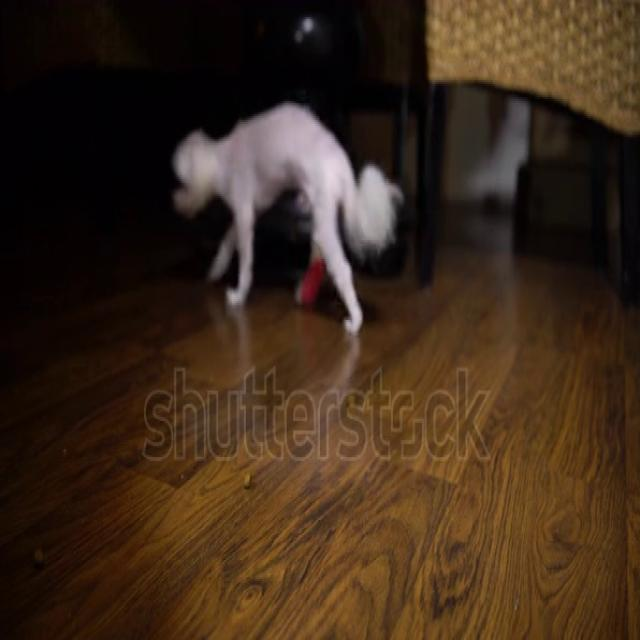injured-animals: (166, 95, 407, 341)
